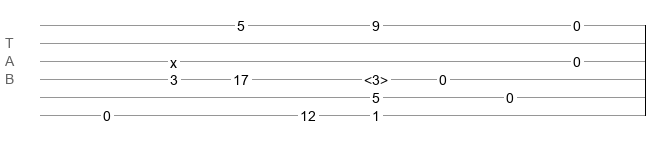0: (103, 108, 111, 118), (439, 72, 447, 82), (506, 90, 514, 100), (573, 54, 581, 64), (573, 18, 581, 28)
1: (372, 108, 380, 118)
12: (300, 108, 316, 118)
17: (233, 72, 249, 82)
3: (170, 72, 178, 82)
5: (237, 18, 245, 28), (372, 90, 380, 100)
9: (372, 18, 380, 28)
harmonic: (364, 72, 388, 82)
x: (170, 55, 177, 63)
